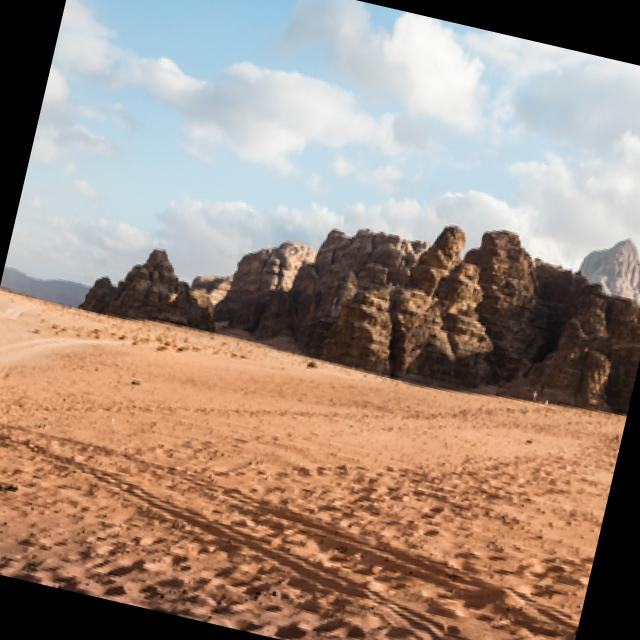red-sand: (0, 288, 626, 640)
rocks: (81, 226, 640, 413)
